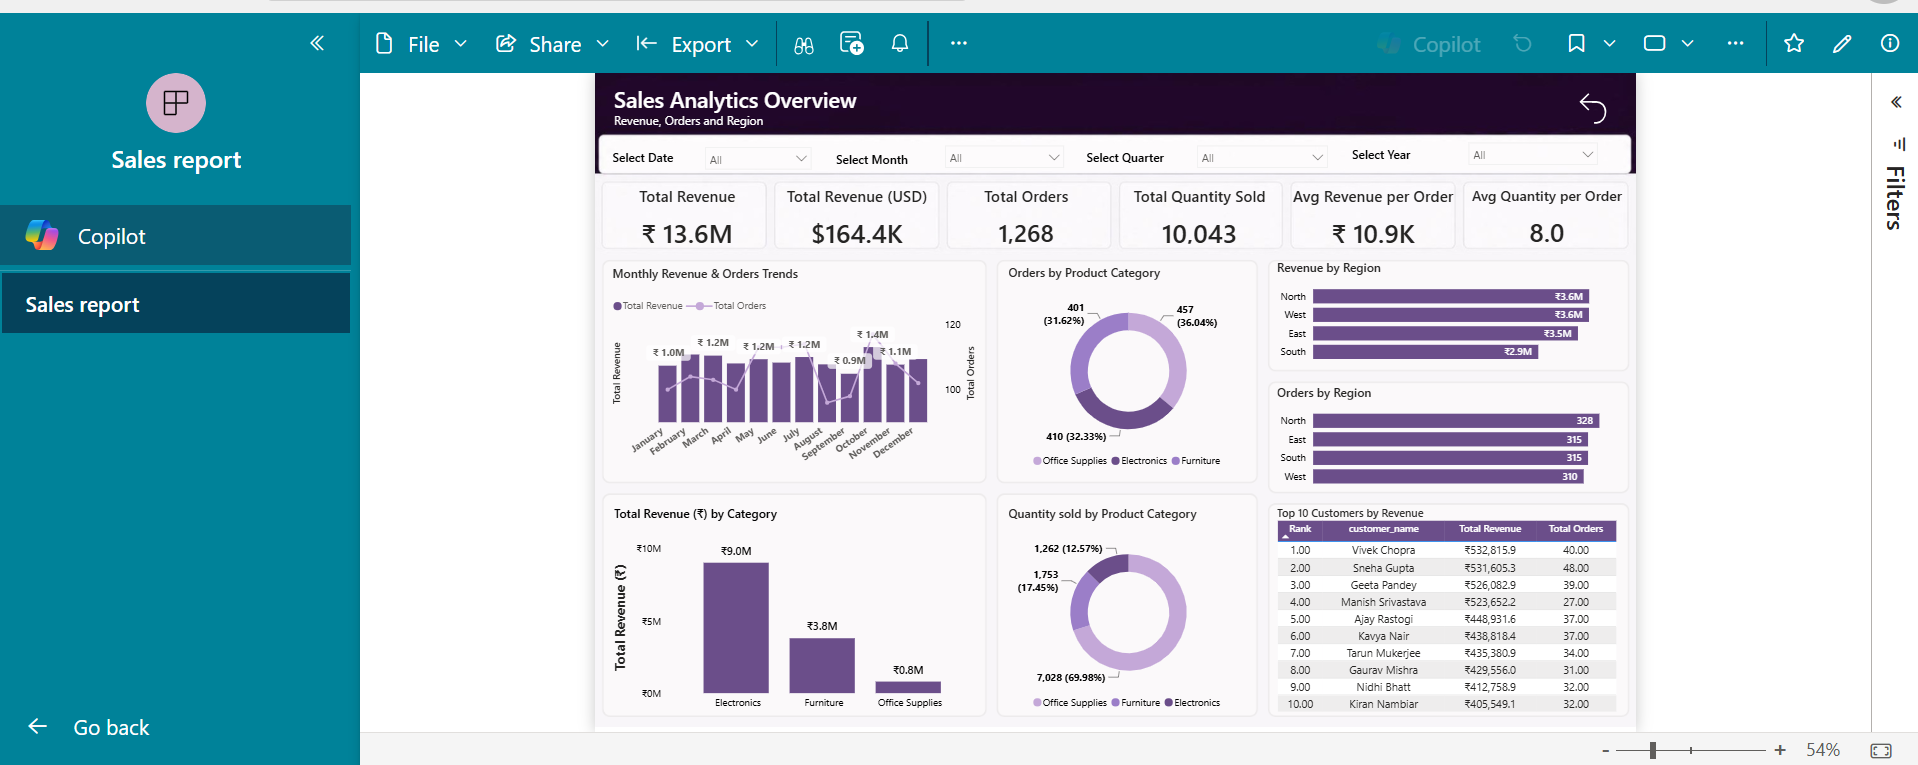

The dashboard page shown, as its layout file describes it:
{"tool":"powerbi","page":{"name":"Sales Analytics Overview","canvas":[1280,810],"ordinal":0},"visuals":[{"type":"textbox","box":[17.9,8.9,685.4,50.1],"z":0},{"type":"textbox","box":[17.9,42.9,492.1,32.2],"z":1000},{"type":"group","id":"g1","title":"Group 1","box":[925.1,75.2,316.7,46.5],"z":2000},{"type":"textbox","box":[16.9,87,119.5,29.9],"z":2000,"group":"g4"},{"type":"group","id":"g2","title":"Group 2","box":[599.1,79.2,312.2,46.8],"z":3000},{"type":"textbox","box":[925.1,85.2,146.7,36.6],"z":3000,"group":"g1"},{"type":"textbox","box":[599.1,87.7,119.9,32.2],"z":3000,"group":"g2"},{"type":"group","id":"g3","title":"Group 3","box":[290.5,79.2,294.8,40.3],"z":4000},{"type":"textbox","box":[290.5,89.6,128.6,29.9],"z":4000,"group":"g3"},{"type":"slicer","fields":{"Values":["dim_date.month_name"]},"box":[419.1,79.2,166.2,37.7],"z":5000,"group":"g3"},{"type":"group","id":"g4","title":"Group 4","box":[16.9,80.5,259.7,39],"z":5000},{"type":"slicer","fields":{"Values":["dim_date.full_date"]},"box":[126,80.5,150.6,39],"z":6000,"group":"g4"},{"type":"cardVisual","title":"Total Orders","fields":{"Data":["fact_sales.Total Orders"]},"box":[455.4,137.7,149.2,76.9],"z":6000},{"type":"slicer","fields":{"Values":["dim_date.quarter"]},"box":[730.8,79.2,180.5,46.8],"z":7000,"group":"g2"},{"type":"cardVisual","title":"Total Revenue","fields":{"Data":["fact_sales.Total Revenue"]},"box":[16.2,137.7,193.8,76.9],"z":7000},{"type":"cardVisual","title":"Total Revenue (USD)","fields":{"Data":["fact_sales.Total Revenue USD"]},"box":[224.6,137.7,194.6,76.9],"z":8000},{"type":"slicer","fields":{"Values":["dim_date.year"]},"box":[1062.9,75.2,178.9,40.6],"z":8001,"group":"g1"},{"type":"cardVisual","title":"Total Quantity Sold","fields":{"Data":["fact_sales.Total Quantity Sold"]},"box":[647.7,137.7,192.3,76.9],"z":9000},{"type":"cardVisual","title":"Avg Revenue per Order","fields":{"Data":["fact_sales.Avg Revenue per order"]},"box":[850,137.7,213.1,76.9],"z":10000},{"type":"cardVisual","title":"Avg Quantity per Order","fields":{"Data":["fact_sales.Avg Quantity per order"]},"box":[1061.5,137.7,216.2,76.9],"z":11000},{"type":"clusteredBarChart","title":"Revenue by Region","fields":{"Category":["dim_region.region"],"Y":["fact_sales.Total Revenue"]},"box":[833.9,229,429.5,137.8],"z":12000},{"type":"clusteredBarChart","title":"Orders by Region","fields":{"Category":["dim_region.region"],"Y":["fact_sales.Total Orders"]},"box":[833.9,381.2,429.5,137.8],"z":13000},{"type":"donutChart","title":"Orders by Product Category","fields":{"Category":["dim_product.product_category"],"Y":["fact_sales.Total Orders"]},"box":[502.8,234.4,304.2,261.3],"z":14000},{"type":"donutChart","title":"Quantity sold by Product Category","fields":{"Category":["dim_product.product_category"],"Y":["fact_sales.Total Quantity Sold"]},"box":[502.8,531.5,304.2,261.3],"z":15000},{"type":"tableEx","title":"Top 10 Customers by Revenue","fields":{"Values":["fact_sales.Customer Rank","dim_customer.customer_name","fact_sales.Total Revenue","fact_sales.Total Orders"]},"box":[833.9,531.5,429.5,261.3],"z":16000},{"type":"columnChart","fields":{"Category":["dim_product.product_category"],"Y":["fact_sales.Total Revenue"]},"box":[17.9,531.5,458.1,261.3],"z":17000},{"type":"lineStackedColumnComboChart","title":"Monthly Revenue & Orders Trends","fields":{"Category":["dim_date.month_name"],"Y":["fact_sales.Total Revenue"],"Y2":["fact_sales.Total Orders"]},"box":[16.1,236.2,459.9,261.3],"z":18000},{"type":"actionButton","box":[1191.8,17.9,71.6,50.1],"z":19000}]}

Visuals, with their boxes on the page's 1280x810 design canvas (x1, y1, x2, y2). These are canvas units, not pixel positions in the 1918x765 screenshot, which may show the page scaled, cropped or inside an application window:
textbox: (left=18, top=9, right=703, bottom=59)
textbox: (left=18, top=43, right=510, bottom=75)
"Group 1" group: (left=925, top=75, right=1242, bottom=122)
textbox: (left=17, top=87, right=136, bottom=117)
"Group 2" group: (left=599, top=79, right=911, bottom=126)
textbox: (left=925, top=85, right=1072, bottom=122)
textbox: (left=599, top=88, right=719, bottom=120)
"Group 3" group: (left=290, top=79, right=585, bottom=120)
textbox: (left=290, top=90, right=419, bottom=120)
slicer - dim_date.month_name: (left=419, top=79, right=585, bottom=117)
"Group 4" group: (left=17, top=80, right=277, bottom=120)
slicer - dim_date.full_date: (left=126, top=80, right=277, bottom=120)
"Total Orders" cardVisual: (left=455, top=138, right=605, bottom=215)
slicer - dim_date.quarter: (left=731, top=79, right=911, bottom=126)
"Total Revenue" cardVisual: (left=16, top=138, right=210, bottom=215)
"Total Revenue (USD)" cardVisual: (left=225, top=138, right=419, bottom=215)
slicer - dim_date.year: (left=1063, top=75, right=1242, bottom=116)
"Total Quantity Sold" cardVisual: (left=648, top=138, right=840, bottom=215)
"Avg Revenue per Order" cardVisual: (left=850, top=138, right=1063, bottom=215)
"Avg Quantity per Order" cardVisual: (left=1062, top=138, right=1278, bottom=215)
"Revenue by Region" clusteredBarChart: (left=834, top=229, right=1263, bottom=367)
"Orders by Region" clusteredBarChart: (left=834, top=381, right=1263, bottom=519)
"Orders by Product Category" donutChart: (left=503, top=234, right=807, bottom=496)
"Quantity sold by Product Category" donutChart: (left=503, top=532, right=807, bottom=793)
"Top 10 Customers by Revenue" tableEx: (left=834, top=532, right=1263, bottom=793)
columnChart - dim_product.product_category x fact_sales.Total Revenue: (left=18, top=532, right=476, bottom=793)
"Monthly Revenue & Orders Trends" lineStackedColumnComboChart: (left=16, top=236, right=476, bottom=498)
actionButton: (left=1192, top=18, right=1263, bottom=68)
